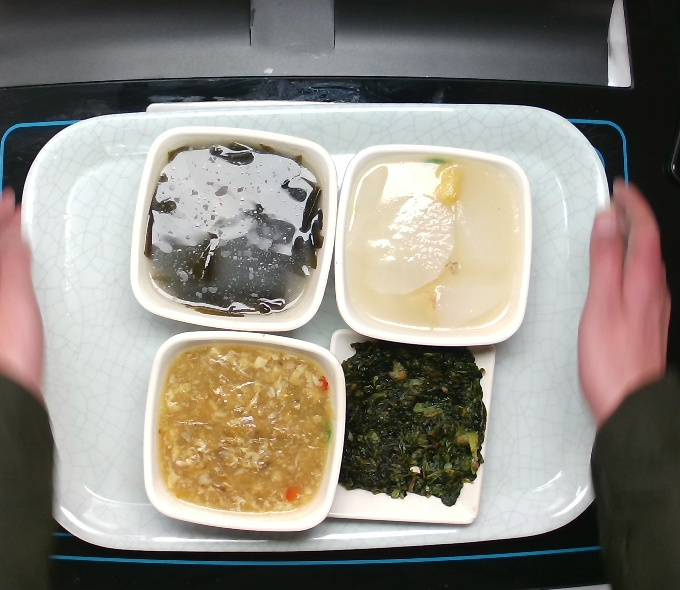wcq-HaiDaiPaiGuTang: (148, 143, 327, 314)
wcq-LuoBoYouPaoTang: (341, 152, 521, 333)
wcq-QinCaiBing: (335, 336, 491, 510)
wcq-SuanLaGeng: (157, 342, 334, 514)
